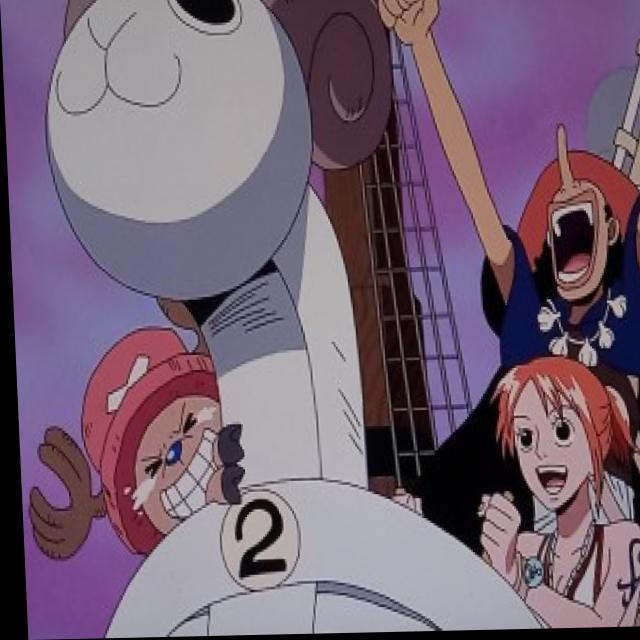Chyopa: (20, 308, 232, 571)
Nami: (476, 354, 630, 523)
Usopp: (513, 115, 631, 309)
